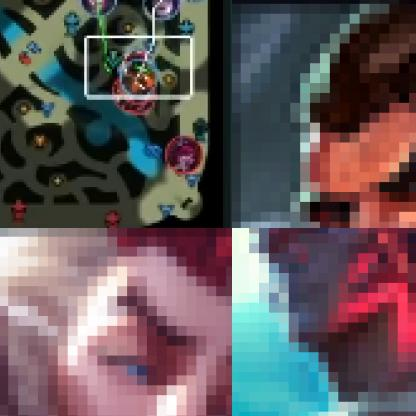Graves: (232, 0, 415, 227)
Kaisa: (145, 0, 181, 19)
Lee Sin: (124, 49, 159, 86)
Nautilus: (122, 59, 158, 95)
Rakan: (0, 228, 231, 415)
Syndra: (81, 0, 119, 18)
Xayah: (164, 134, 203, 175)
Yone: (232, 228, 415, 415)
